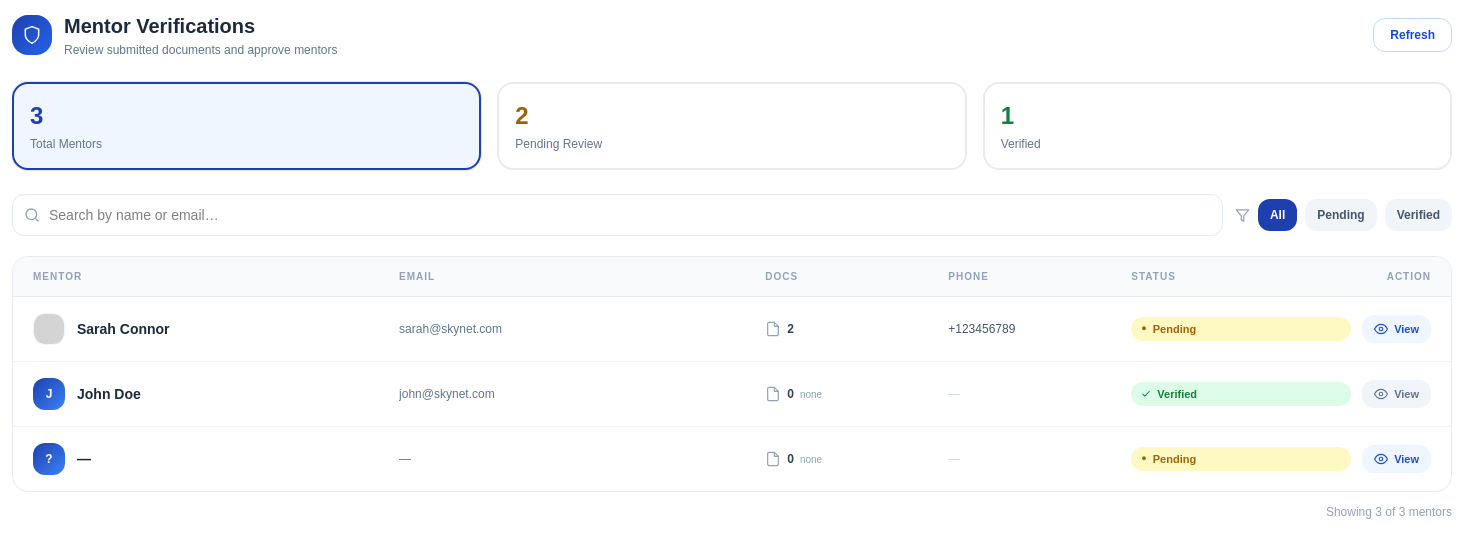
Test: AdminVerifications › should apply filter criteria correctly when clicking tab controls
Filter by Verified only
Click the button "verified" at (1418, 215), box x1=1385 y1=199 x2=1452 y2=231
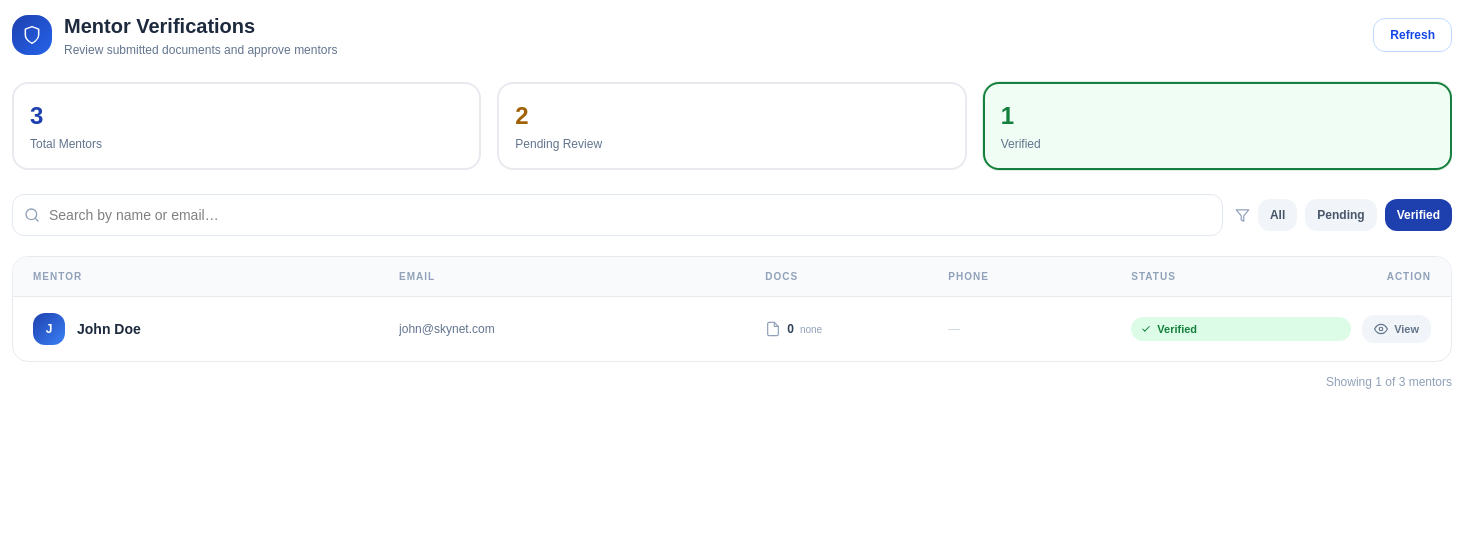
Expected: the text "John Doe" is shown, x1=77 y1=319 x2=141 y2=339
Now the button "Sarah Connor" is gone
Filter by Pending review only
Click the button "pending" at (1341, 215), box x1=1305 y1=199 x2=1377 y2=231
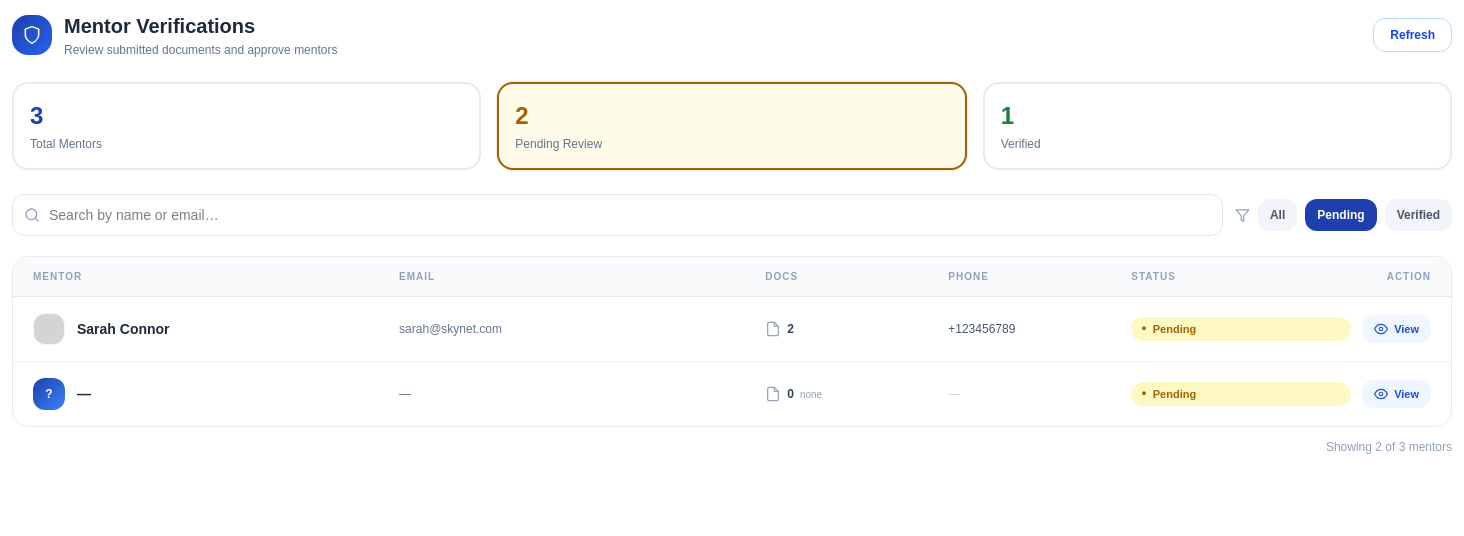
Now the text "Sarah Connor" is shown, box x1=77 y1=319 x2=170 y2=339
Now the button "John Doe" is gone
